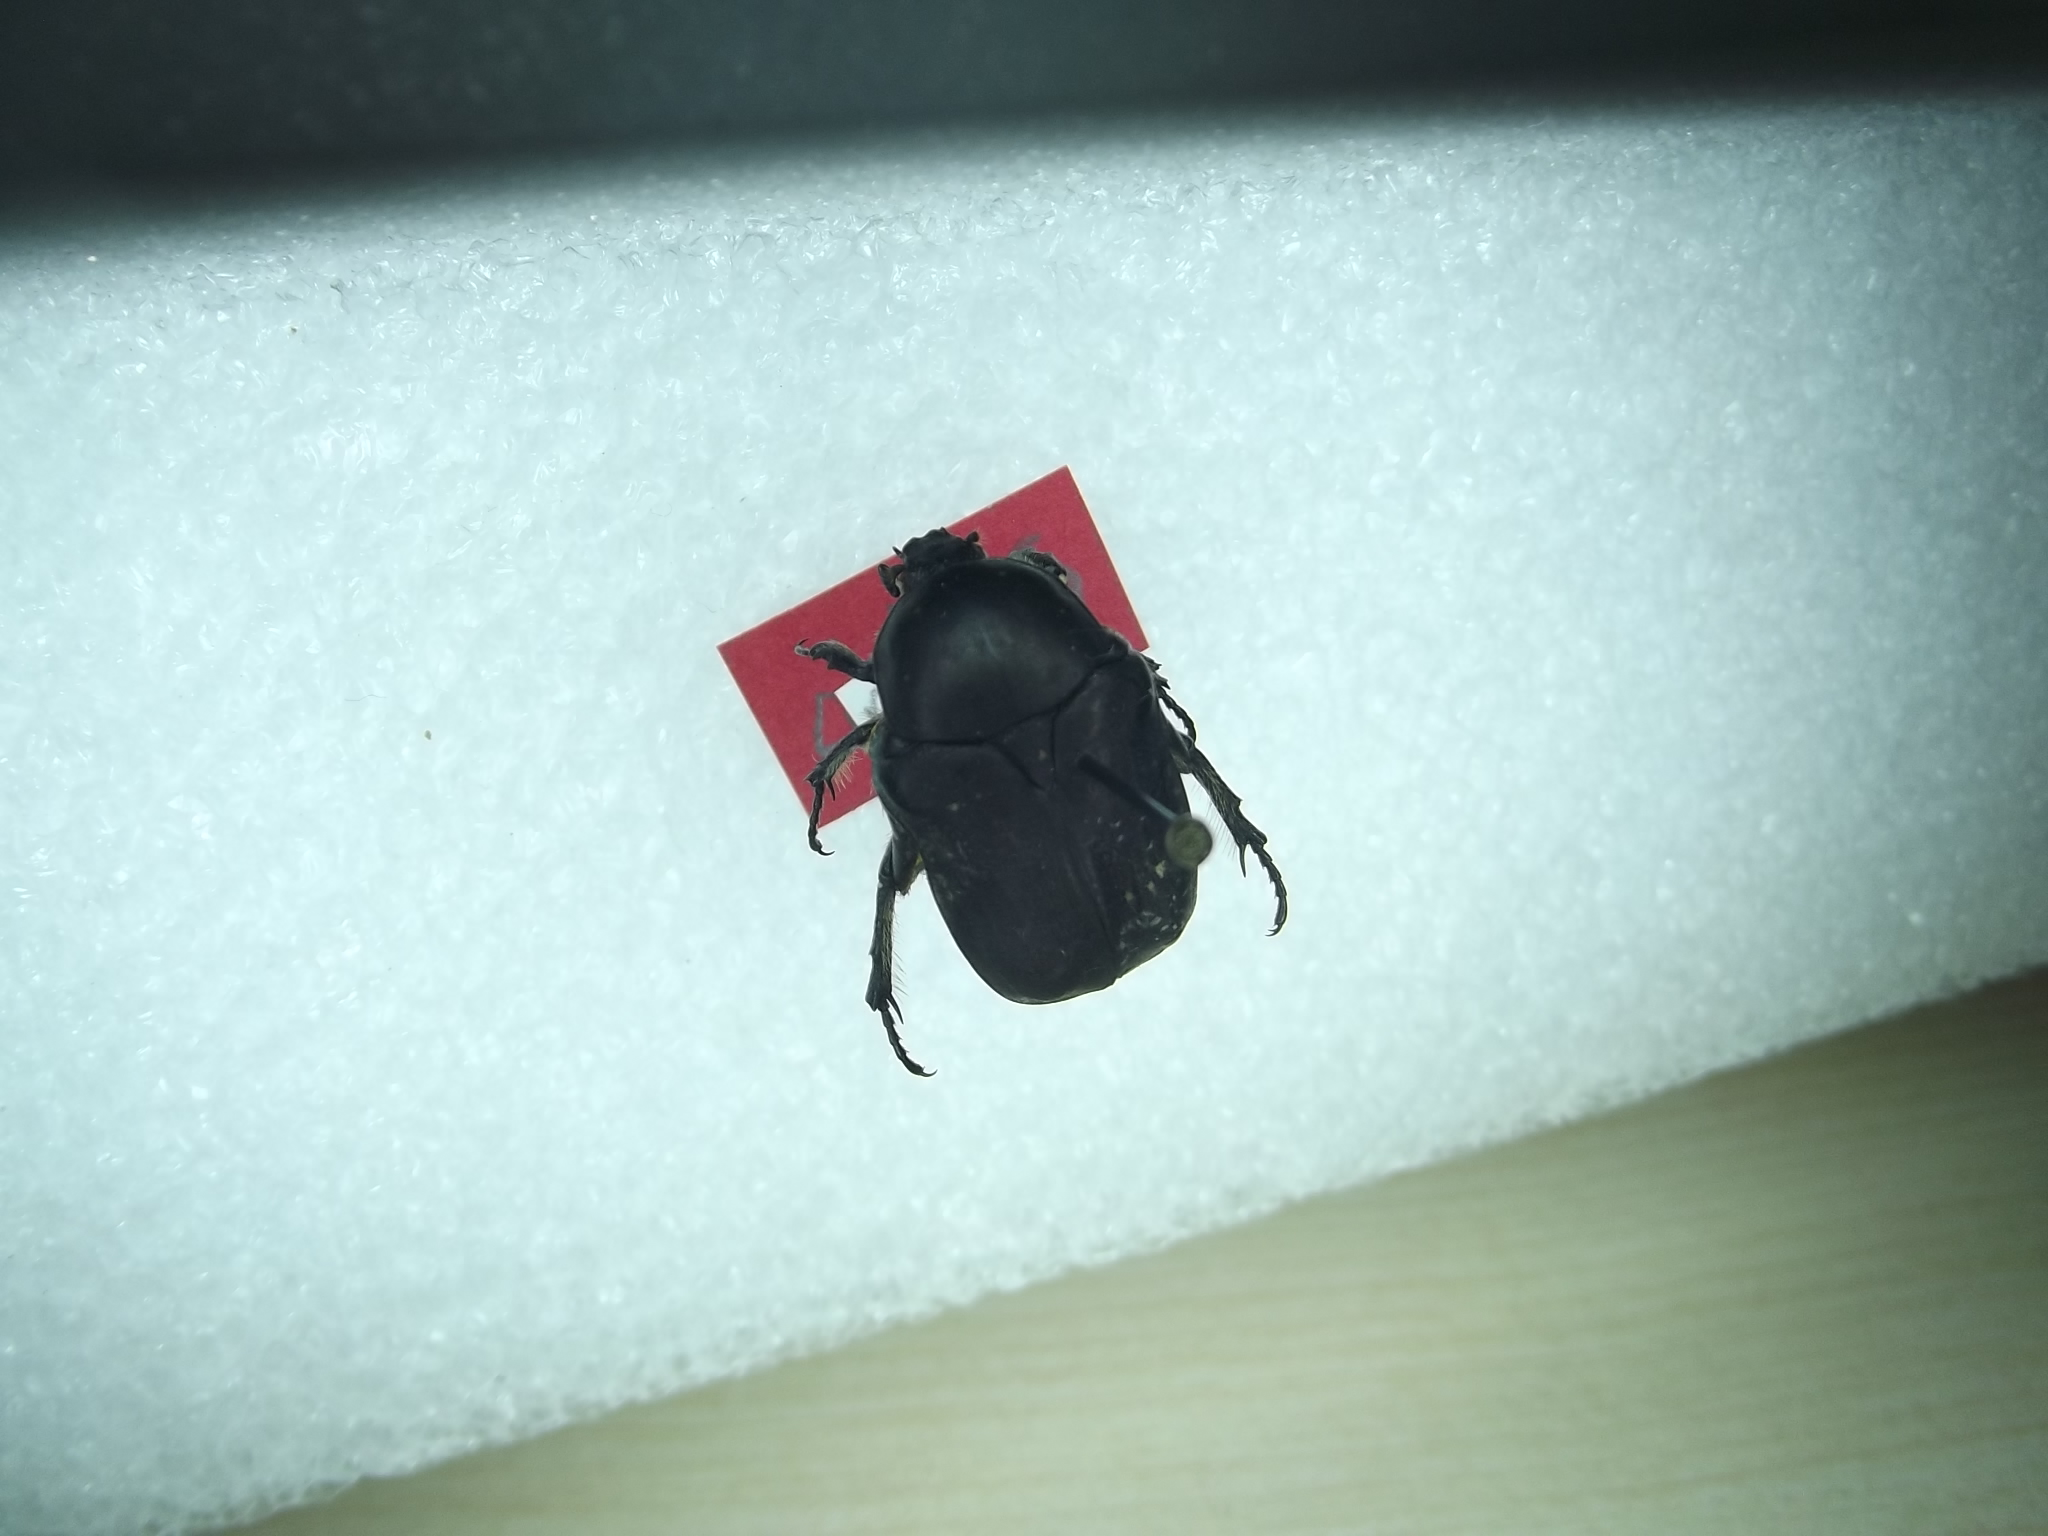Protaetia_asiatica: (793, 507, 1305, 1075)
